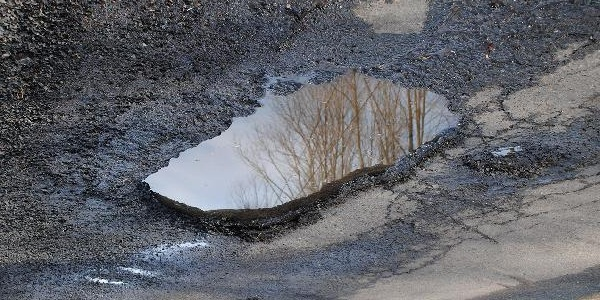pothole: (134, 67, 472, 247), (462, 141, 580, 182)
